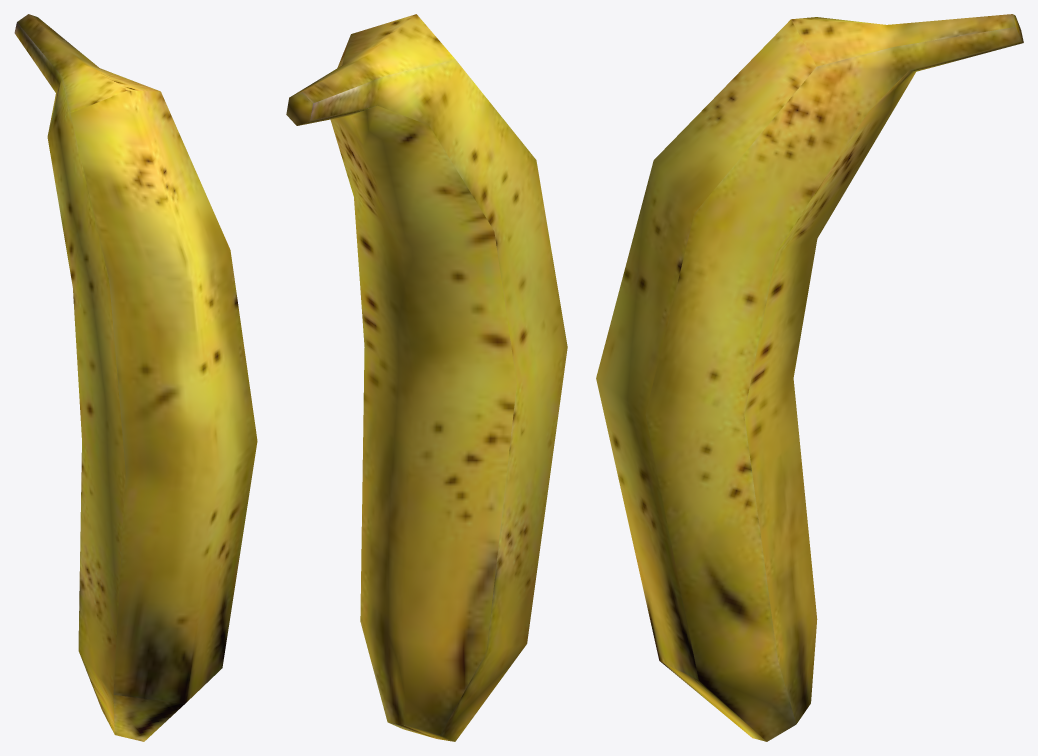
The model's file is Banana_01.glb.
3 renders of one model, left to right at view 1: azimuth 30°, elevation 25°; view 2: azimuth 150°, elevation 25°; view 3: azimuth 270°, elevation 25°, orthographic. The views are drawn at different scales.
Visible parts, largest first — view 1: Banana_01; view 2: Banana_01; view 3: Banana_01.
Part boxes in pixels (left/top/right/bottom): Banana_01: left=14, top=14, right=257, bottom=741; Banana_01: left=286, top=14, right=567, bottom=741; Banana_01: left=596, top=14, right=1023, bottom=741.
Size of the model in its own units: 0.0651 by 0.3039 by 0.1627.
Materials: 1 (1 with a texture image).
